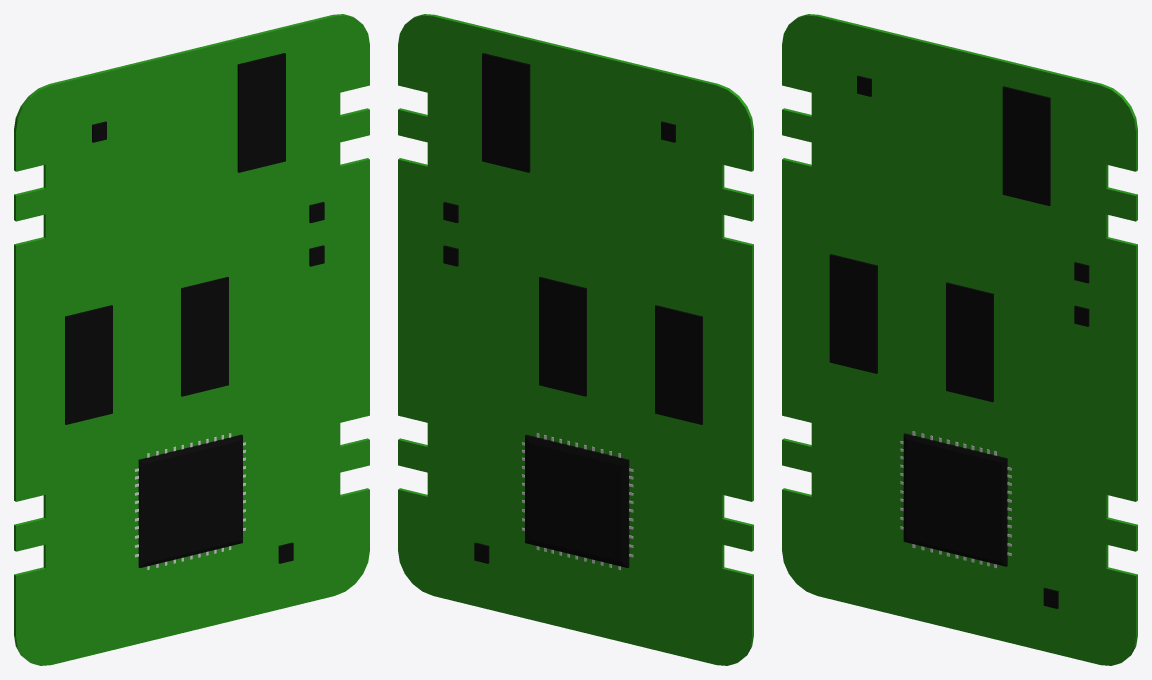
File: PCB_iPoly3D_alt.glb
3 renders of one model, left to right at view 1: azimuth 30°, elevation 25°; view 2: azimuth 150°, elevation 25°; view 3: azimuth 330°, elevation 25°, orthographic.
Parts seen in each view (by area): view 1: PCB two; view 2: PCB two; view 3: PCB two.
Part boxes in pixels (x1=…): PCB two: x1=14, y1=14, x2=369, y2=665; PCB two: x1=398, y1=14, x2=753, y2=665; PCB two: x1=782, y1=14, x2=1137, y2=665.
Size of the model in its own units: 2.69 by 4.21 by 0.0779.
